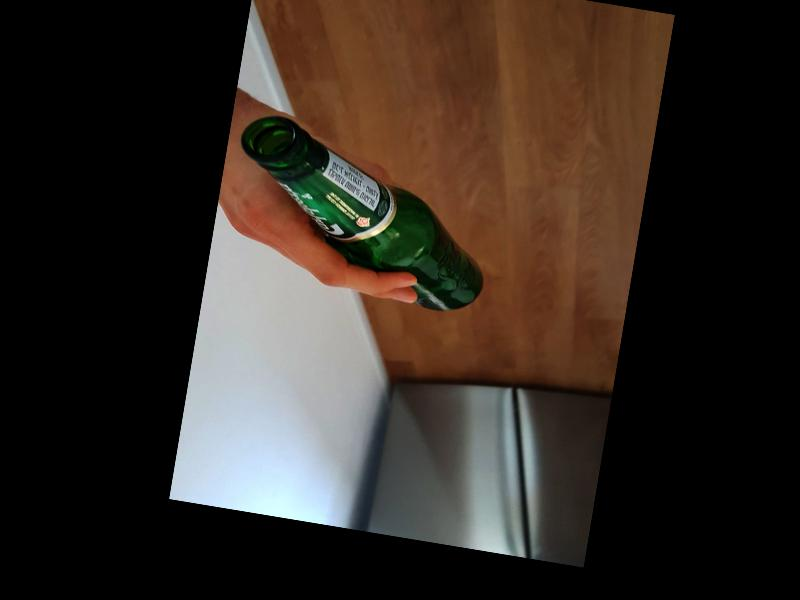Beer: (218, 109, 504, 316)
